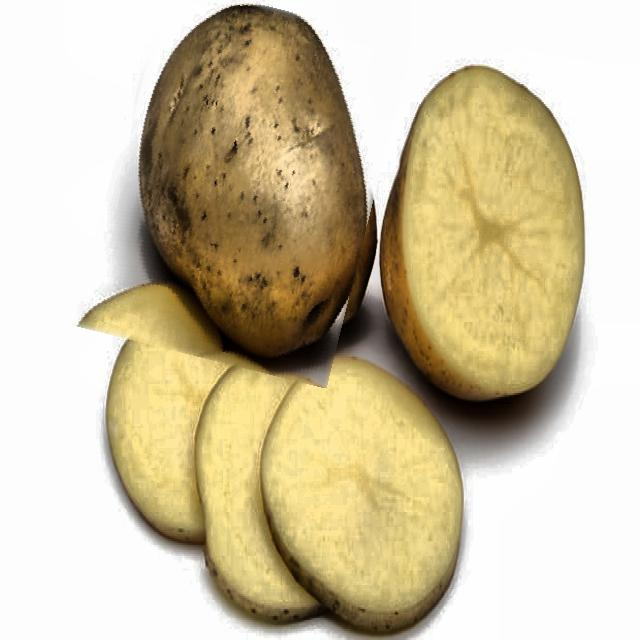potato: (92, 0, 392, 375)
